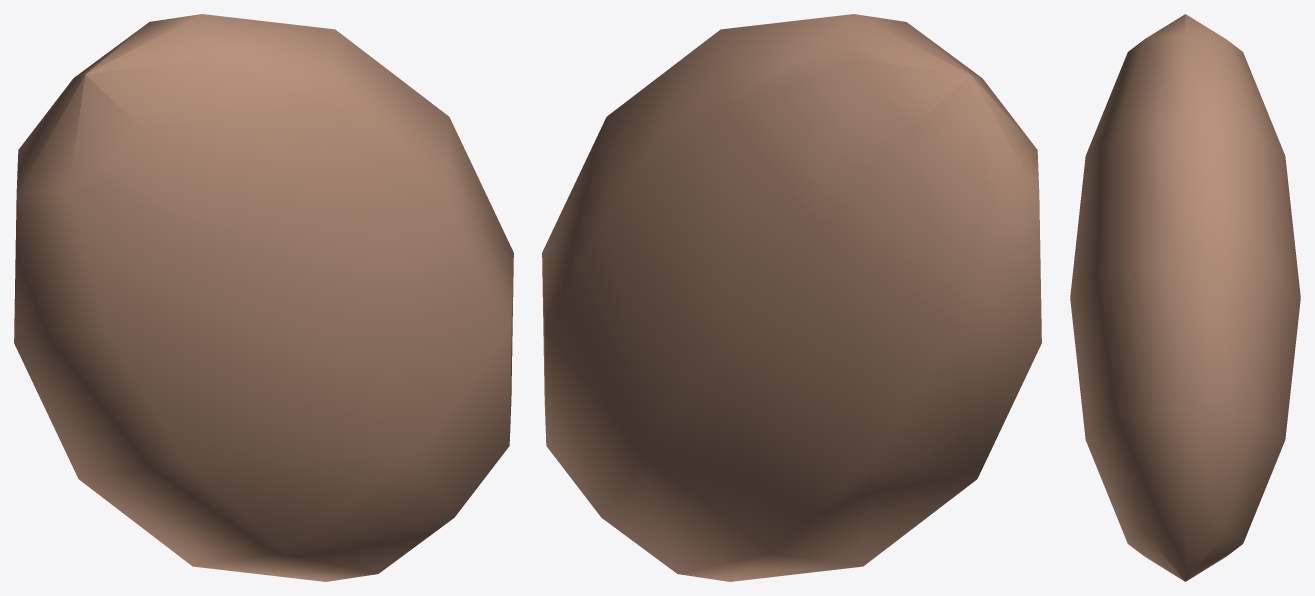
File: hand_R.obj
3 renders of one model, left to right at view 1: azimuth 30°, elevation 25°; view 2: azimuth 150°, elevation 25°; view 3: azimuth 270°, elevation 25°, orthographic. The views are drawn at different scales.
Parts seen in each view (by area): view 1: hand_R; view 2: hand_R; view 3: hand_R.
Boxes of the visible parts, <box> form: hand_R: <box>14,14,513,581</box>; hand_R: <box>542,14,1041,581</box>; hand_R: <box>1070,14,1300,581</box>.
Size of the model in its own units: 0.0898 by 0.1027 by 0.0447.
